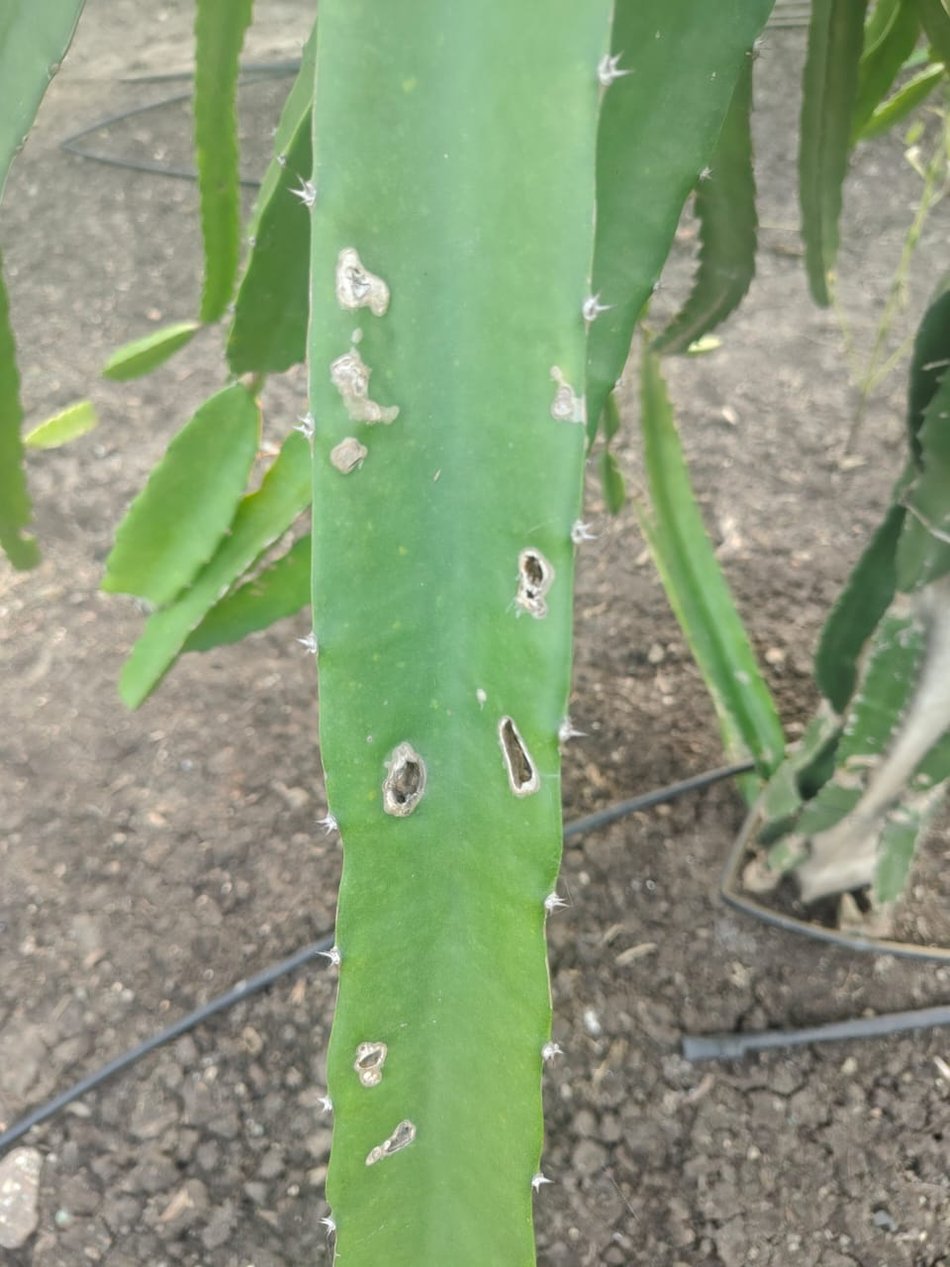stemcanker: (292, 2, 622, 1267)
